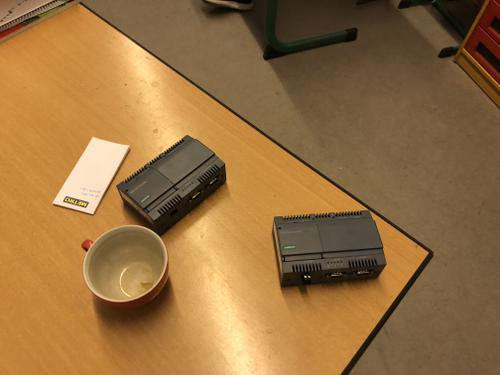device: (117, 135, 227, 238), (272, 210, 387, 288)
